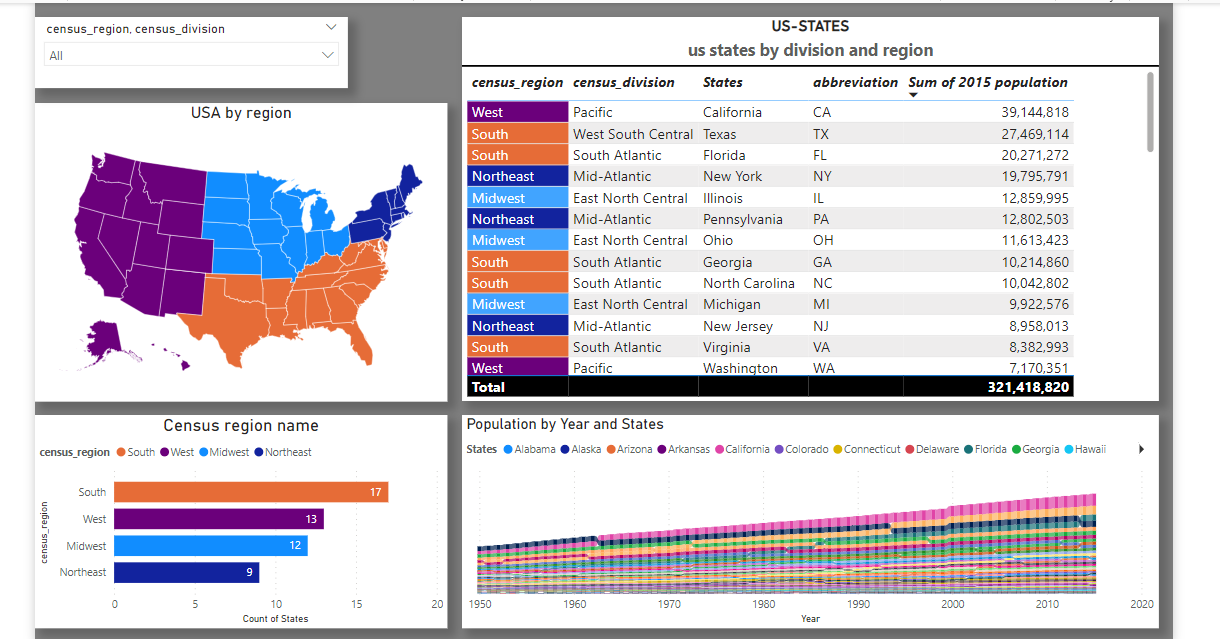

The dashboard page shown, as its layout file describes it:
{"tool":"powerbi","page":{"name":"Overview","canvas":[1280,720],"ordinal":0},"visuals":[{"type":"tableEx","title":"US-STATES","fields":{"Values":["us-states.census_region_name","us-states.census_division_name","us-states.States","us-states.abbreviation","us-states.2015 population"]},"box":[480,16,784,432],"z":0},{"type":"shapeMap","title":"USA by  region","fields":{"Category":["us-states.States"],"Series":["us-states.census_region_name"],"Value":["CountNonNull(us-states.census_region_name)"]},"box":[0,112,464,336],"z":1000},{"type":"barChart","title":"Census region name","fields":{"Y":["CountNonNull(us-states.States)"],"Category":["us-states.census_region_name"],"Series":["us-states.census_region_name"]},"box":[0,464,464,240],"z":2000},{"type":"slicer","fields":{"Values":["us-states.Census Areas.census_region","us-states.Census Areas.census_division"]},"box":[0,16,352,80],"z":3000},{"type":"ribbonChart","fields":{"Category":["states-population.Year"],"Series":["us-states.States"],"Y":["_measures.Population"]},"box":[480,464,784,240],"z":4000}]}

Visuals, with their boxes on the page's 1280x720 design canvas (x1, y1, x2, y2). These are canvas units, not pixel positions in the 1220x639 screenshot, which may show the page scaled, cropped or inside an application window:
"US-STATES" tableEx: [x1=480, y1=16, x2=1264, y2=448]
"USA by  region" shapeMap: [x1=0, y1=112, x2=464, y2=448]
"Census region name" barChart: [x1=0, y1=464, x2=464, y2=704]
slicer - us-states.Census Areas.census_region x us-states.Census Areas.census_division: [x1=0, y1=16, x2=352, y2=96]
ribbonChart - states-population.Year x us-states.States: [x1=480, y1=464, x2=1264, y2=704]
